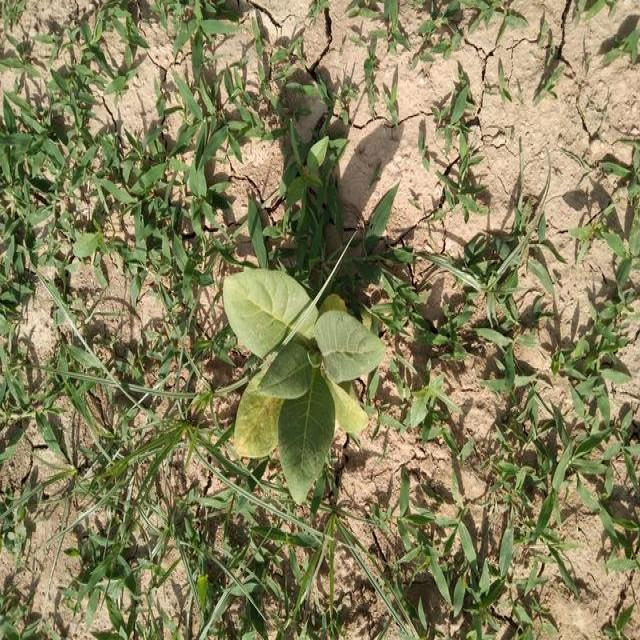crop: (214, 243, 382, 489)
